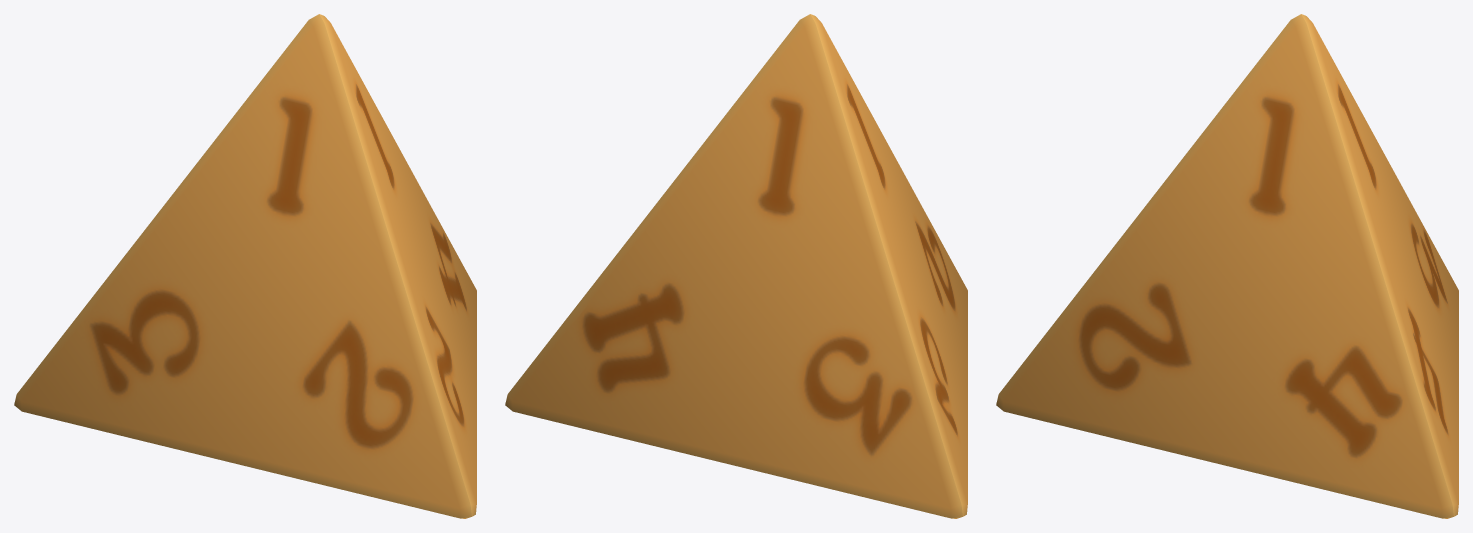
Rendered from D4_yellow.obj.
The picture shows the model from 3 angles, left to right: view 1: azimuth 30°, elevation 25°; view 2: azimuth 150°, elevation 25°; view 3: azimuth 270°, elevation 25°; orthographic projection.
Visible parts, largest first — view 1: D4_yellow; view 2: D4_yellow; view 3: D4_yellow.
Part boxes in pixels (x1,y1,x2,y2): D4_yellow: [14, 14, 476, 518]; D4_yellow: [505, 14, 967, 518]; D4_yellow: [996, 14, 1458, 518].
Size of the model in its own units: 0.9591 by 0.7969 by 0.8396.
1 material, 1 textured.
